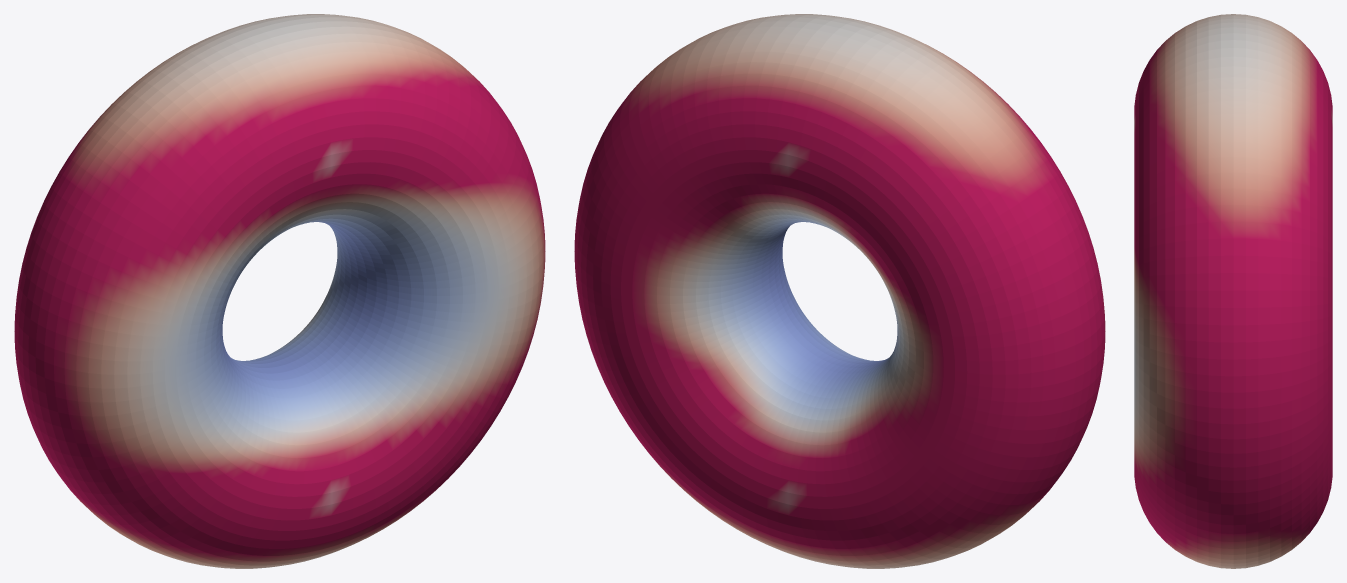
3 views of the same model, side by side, from view 1: azimuth 30°, elevation 25°; view 2: azimuth 150°, elevation 25°; view 3: azimuth 270°, elevation 25° (orthographic). The views are drawn at different scales.
Visible parts, largest first — view 1: world; view 2: world; view 3: world.
Part boxes in pixels (bbox=[...]): world: bbox=[14, 14, 545, 568]; world: bbox=[574, 14, 1105, 568]; world: bbox=[1134, 14, 1332, 568].
Bounding box in the file's own units: 24.93 × 24.93 × 8.92.
